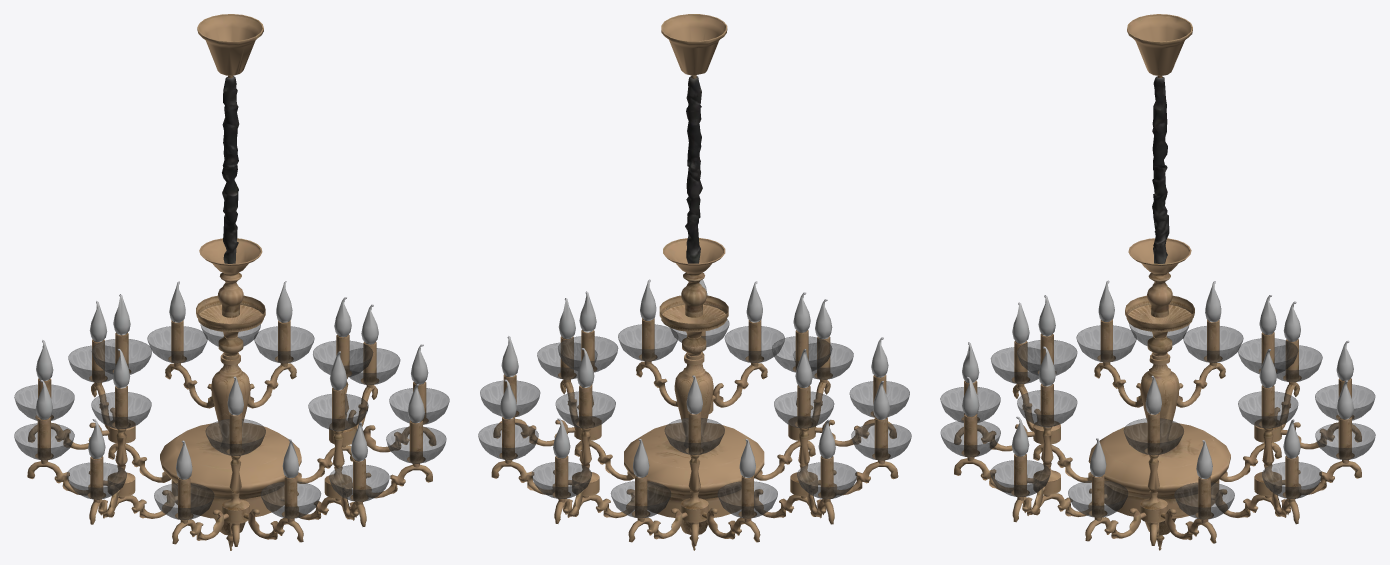
Rendered from Chandelier_03.glb.
3 views of the same model, side by side, from view 1: azimuth 30°, elevation 25°; view 2: azimuth 150°, elevation 25°; view 3: azimuth 270°, elevation 25° (orthographic).
Visible parts, largest first — view 1: Chandelier_03; view 2: Chandelier_03; view 3: Chandelier_03.
Boxes of the visible parts, <box> form: Chandelier_03: <box>14,14,449,550</box>; Chandelier_03: <box>478,14,911,550</box>; Chandelier_03: <box>940,14,1375,550</box>.
Bounding box in the file's own units: 0.7804 × 1.04 × 0.7854.
Materials: 2 (2 with a texture image).
